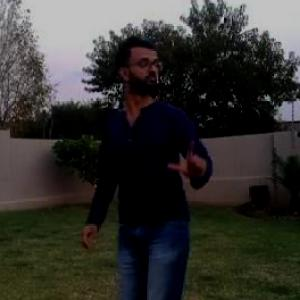land_hand: (165, 135, 211, 181)
